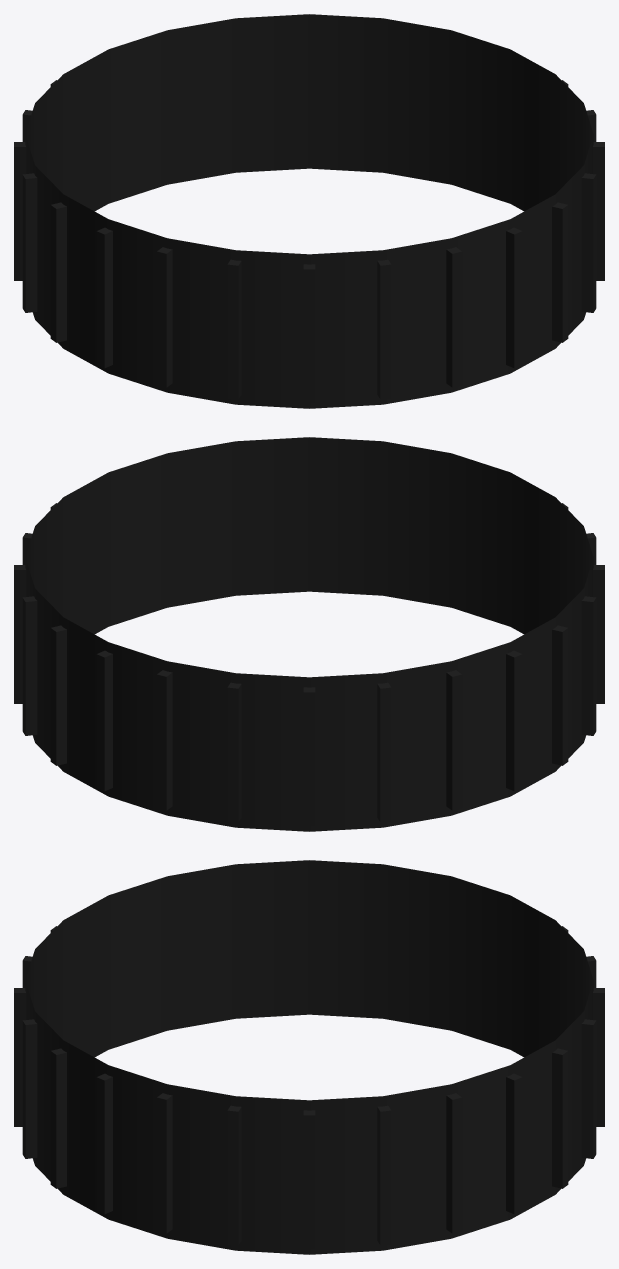
The model's file is virgo_fuel_tank_s1_1.obj.
3 renders of one model, top to bottom at view 1: azimuth 30°, elevation 25°; view 2: azimuth 150°, elevation 25°; view 3: azimuth 270°, elevation 25°, orthographic.
Visible parts, largest first — view 1: mesh; view 2: mesh; view 3: mesh.
Part boxes in pixels (box(x1,y1,x2,y2)): mesh: box(14, 14, 604, 408); mesh: box(14, 437, 604, 831); mesh: box(14, 860, 604, 1254).
Bounding box in the file's own units: 1.3 × 0.375 × 1.3.
